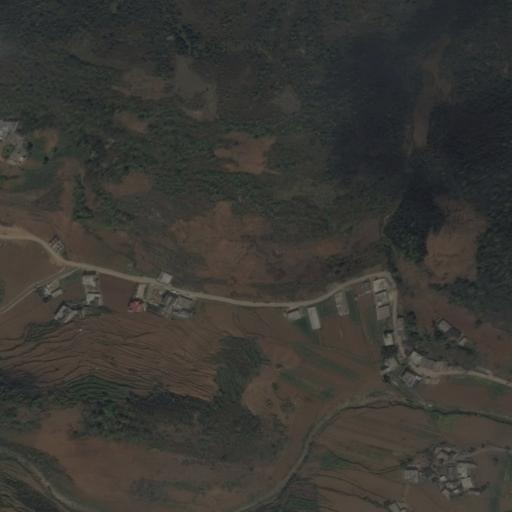landslide: (424, 193, 490, 289)
